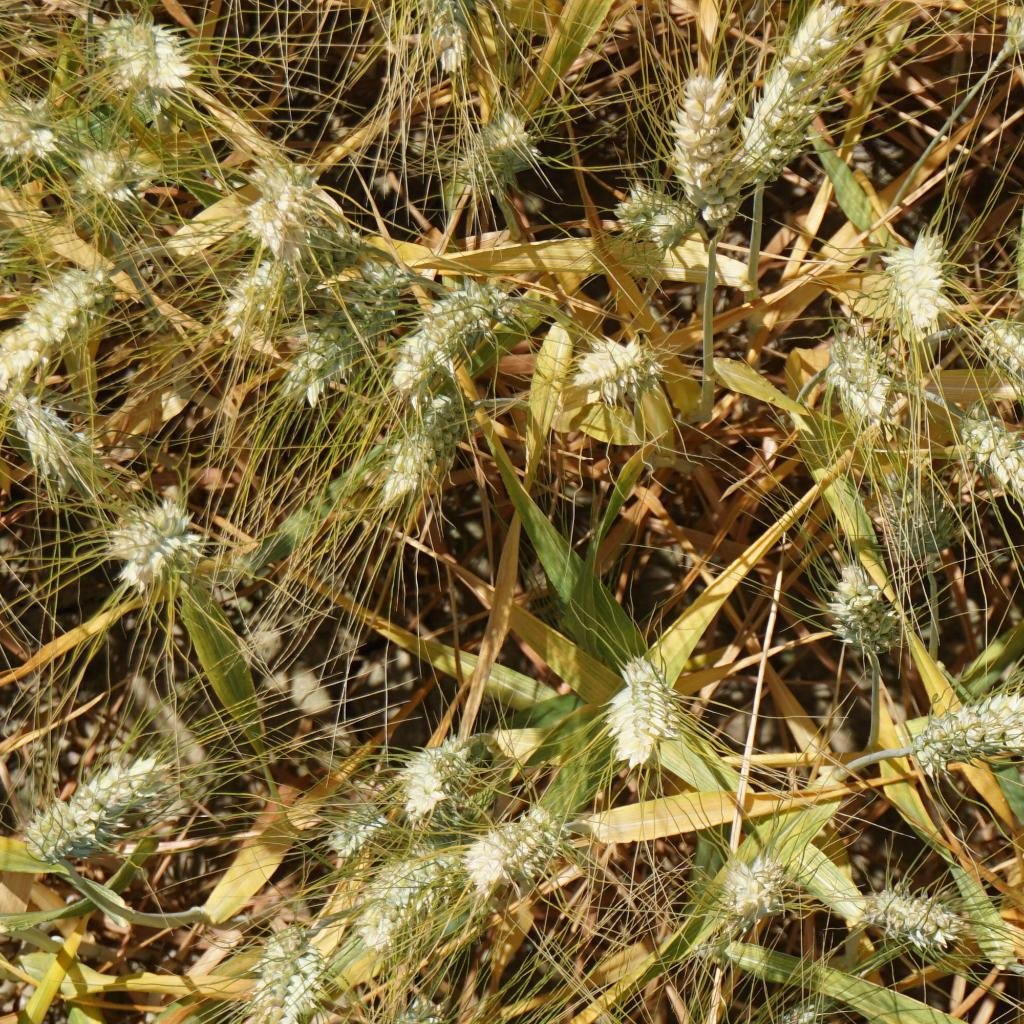0-0: (726, 0, 840, 170), (28, 762, 142, 863), (0, 257, 100, 371), (600, 655, 688, 777), (240, 159, 342, 256), (888, 684, 1024, 755), (861, 879, 974, 964), (384, 268, 480, 368), (230, 915, 318, 1024), (665, 68, 736, 203), (0, 379, 93, 477), (355, 403, 438, 507), (466, 807, 571, 888), (952, 420, 1024, 536), (874, 228, 948, 339), (95, 19, 196, 100), (870, 460, 955, 556), (111, 497, 204, 583), (826, 551, 901, 651), (389, 728, 477, 812), (559, 332, 655, 409), (822, 323, 896, 422), (356, 859, 439, 938), (455, 95, 534, 175), (968, 304, 1024, 416), (226, 256, 300, 328), (617, 172, 689, 246), (261, 325, 335, 392), (720, 853, 787, 923), (68, 140, 139, 201), (341, 251, 399, 321), (0, 95, 58, 157), (314, 790, 376, 846), (351, 989, 442, 1024), (738, 998, 832, 1024), (1009, 192, 1024, 291), (0, 982, 31, 1024)
